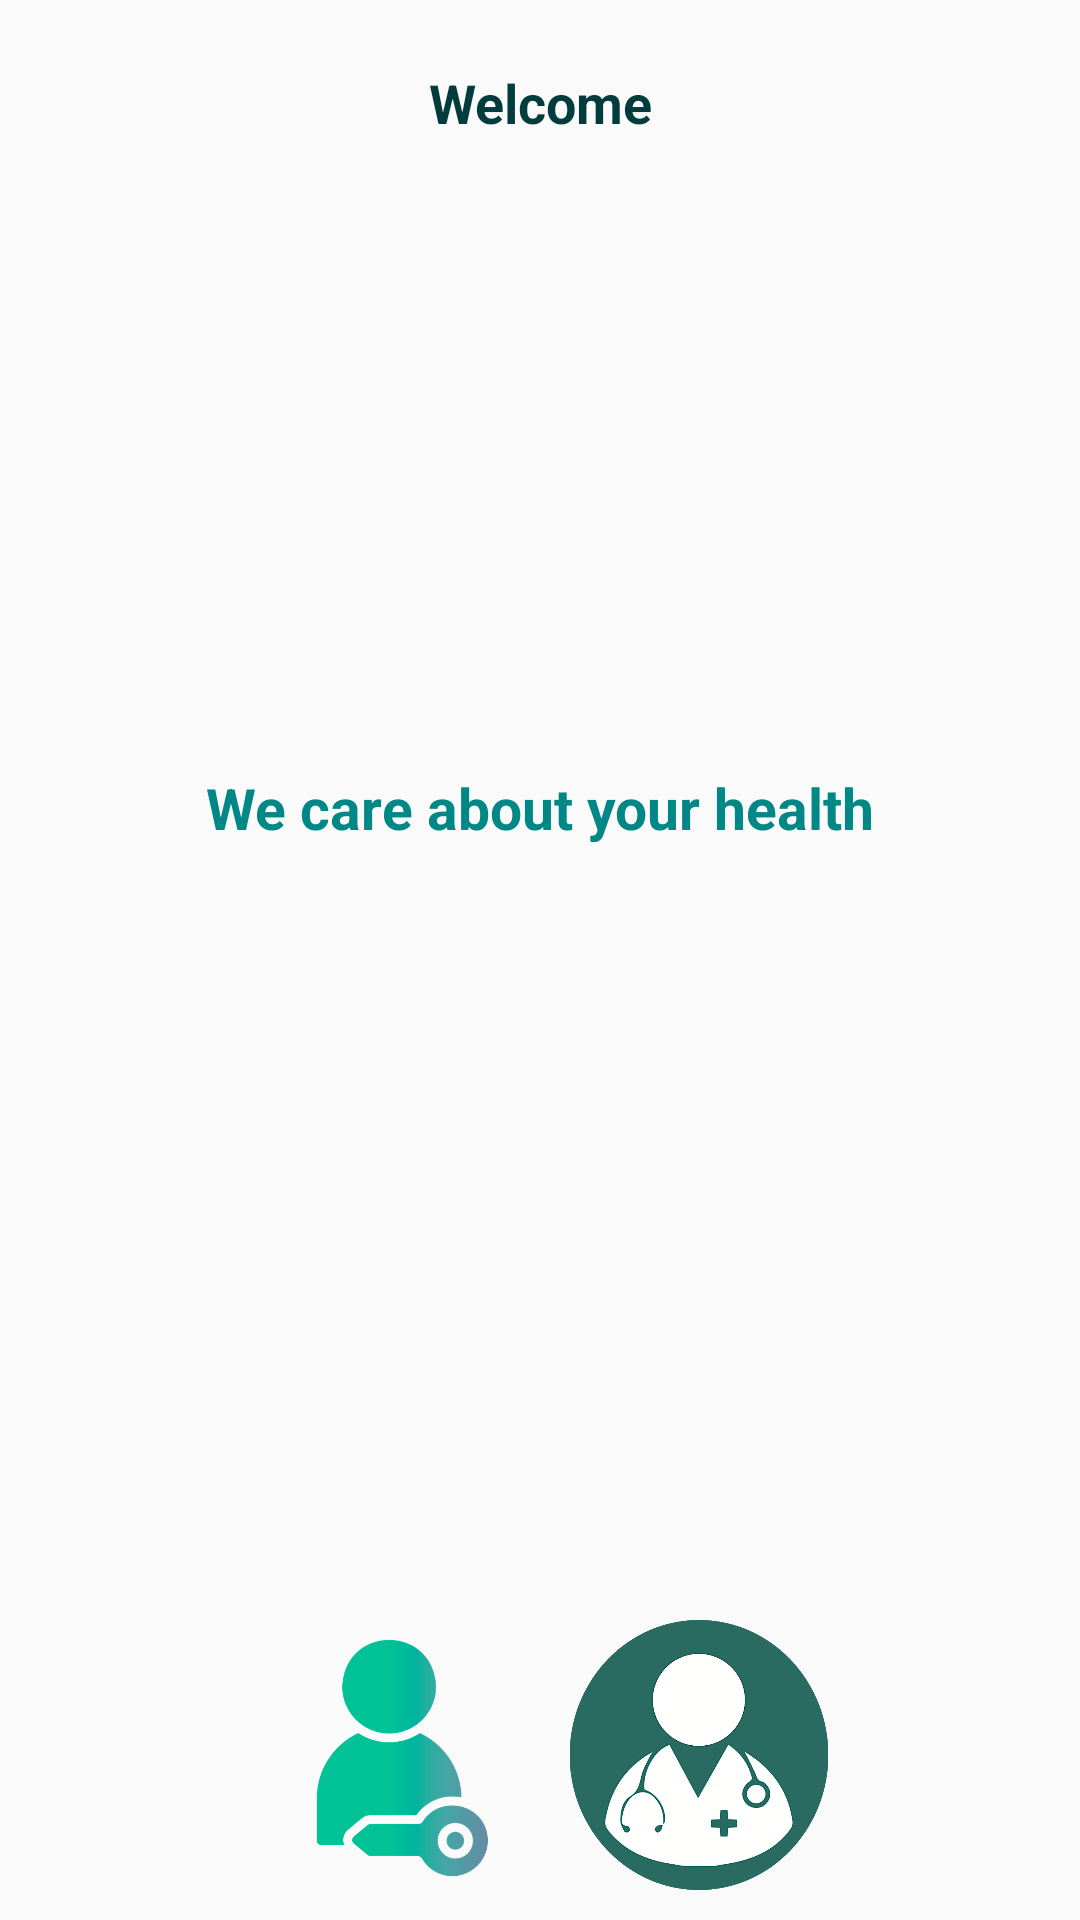

Icon bounding boxes for this 1080px x 1920px phone screenshot, format bbox=[x1, y1, x2, y2]:
doctor login: bbox=[570, 1620, 828, 1890]
login: bbox=[316, 1640, 488, 1876]
